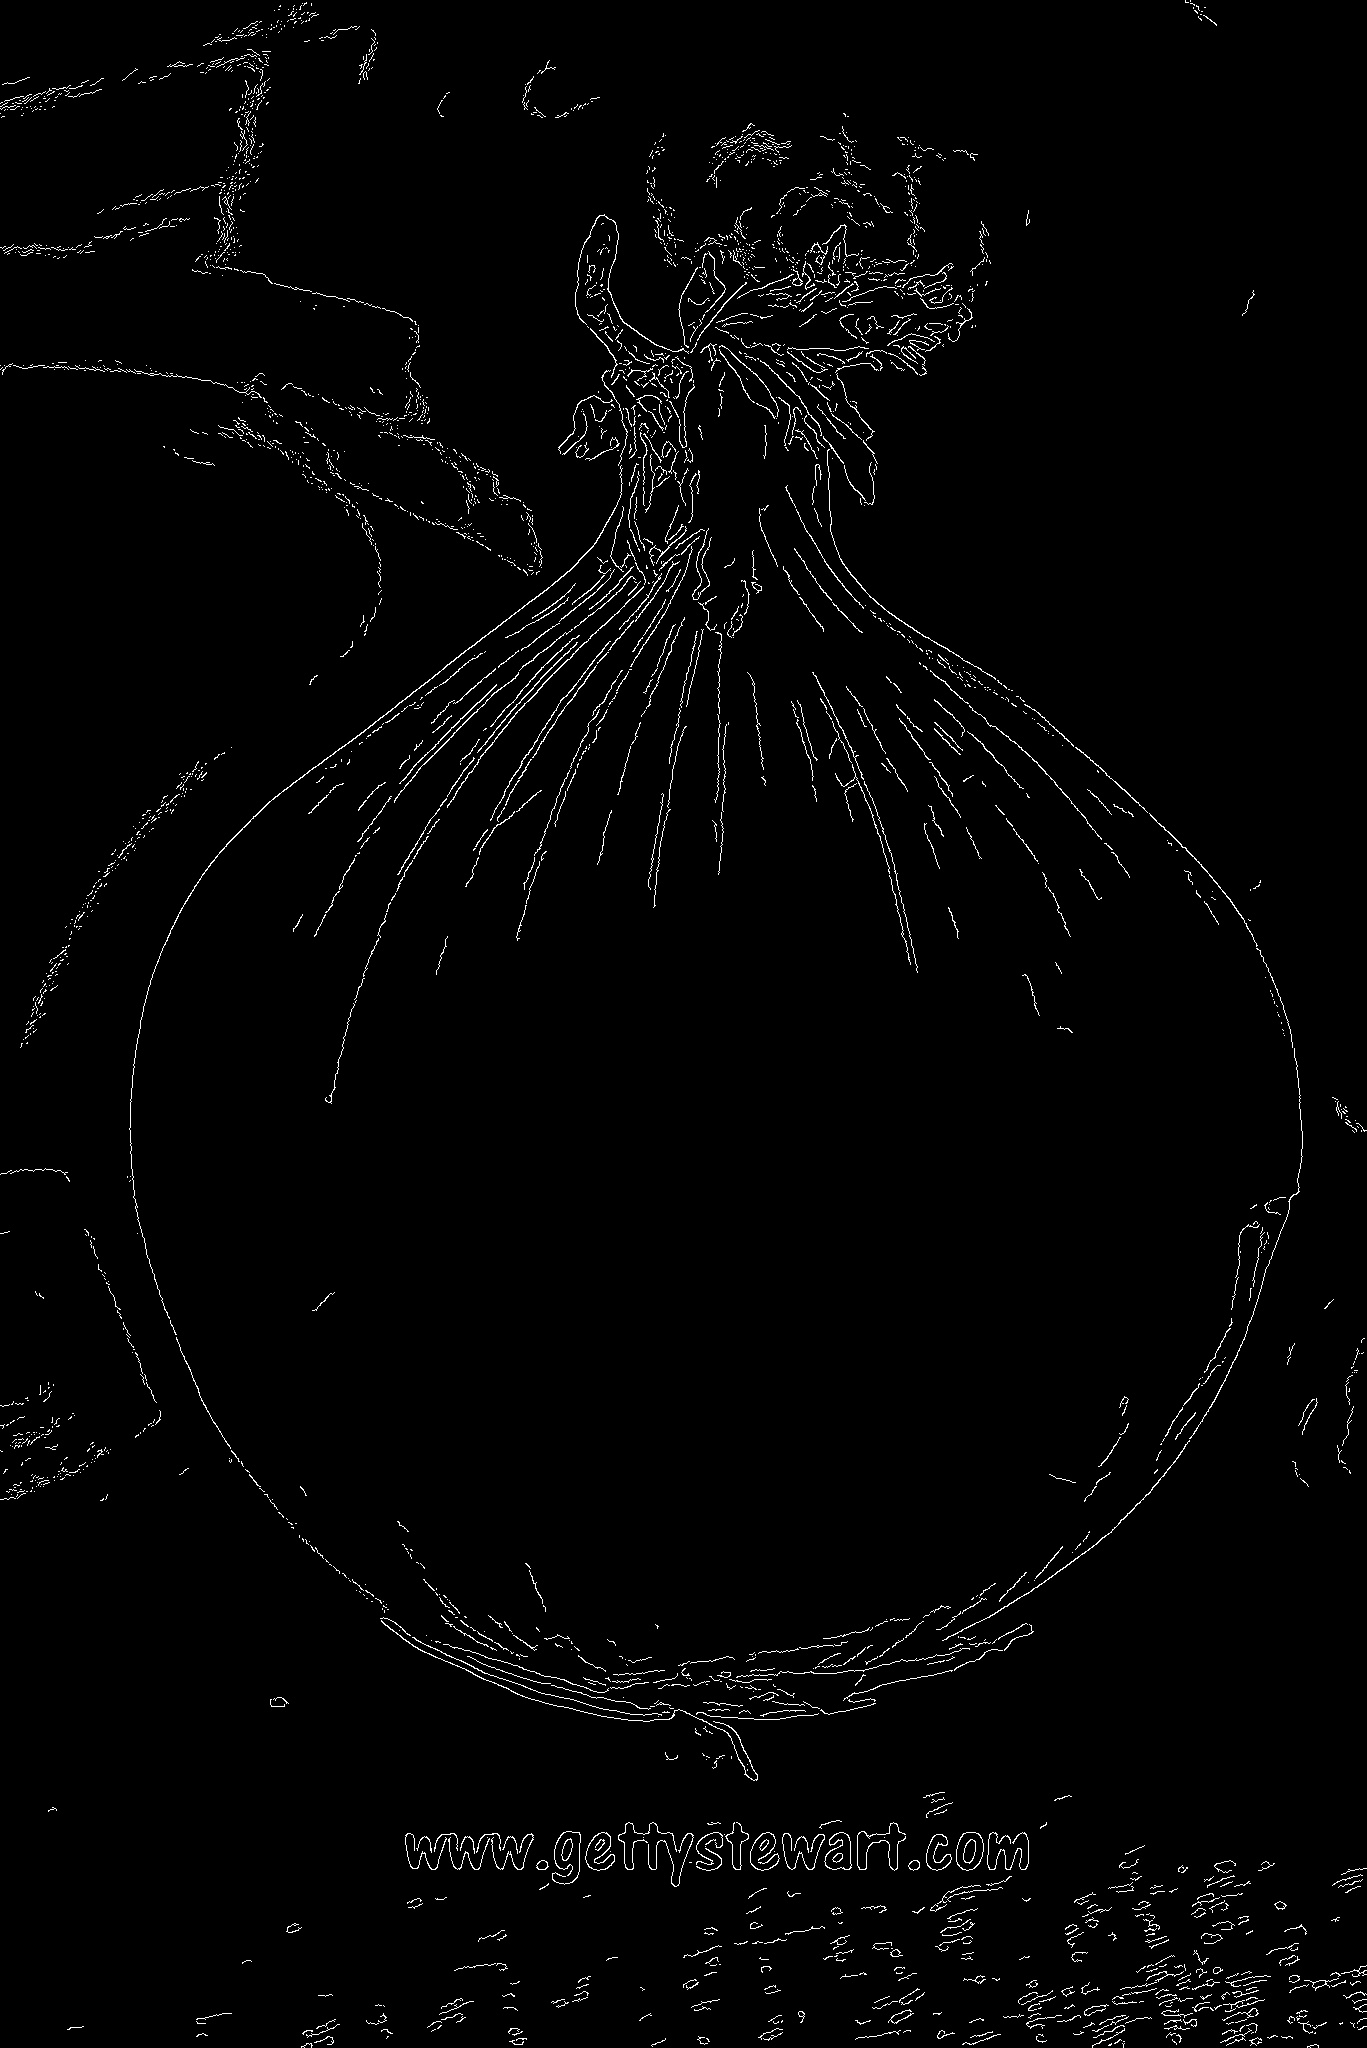onion: (104, 175, 1283, 1760)
